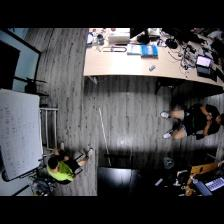normal: (160, 103, 224, 141), (49, 142, 97, 181)
